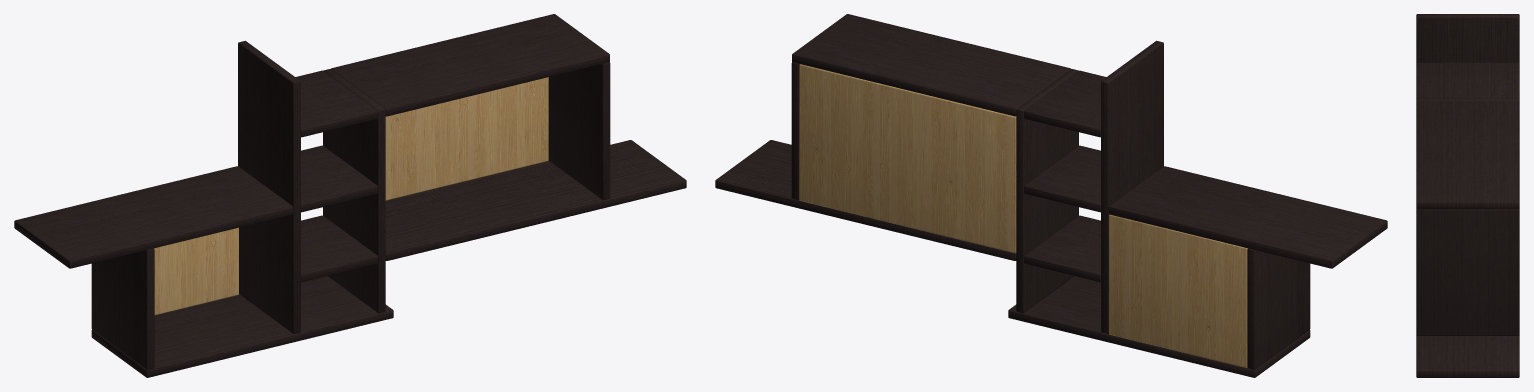
The picture shows the model from 3 angles, left to right: view 1: azimuth 30°, elevation 25°; view 2: azimuth 150°, elevation 25°; view 3: azimuth 270°, elevation 25°; orthographic projection. The views are drawn at different scales.
Parts seen in each view (by area): view 1: Node; view 2: Node; view 3: Node.
Boxes of the visible parts, x1,y1,x2,y2 form: Node: (14,14,686,377); Node: (715,14,1387,377); Node: (1416,14,1519,377).
Bounding box in the file's own units: 1.6 × 0.6434 × 0.25.
Materials: 2 (2 with a texture image).
